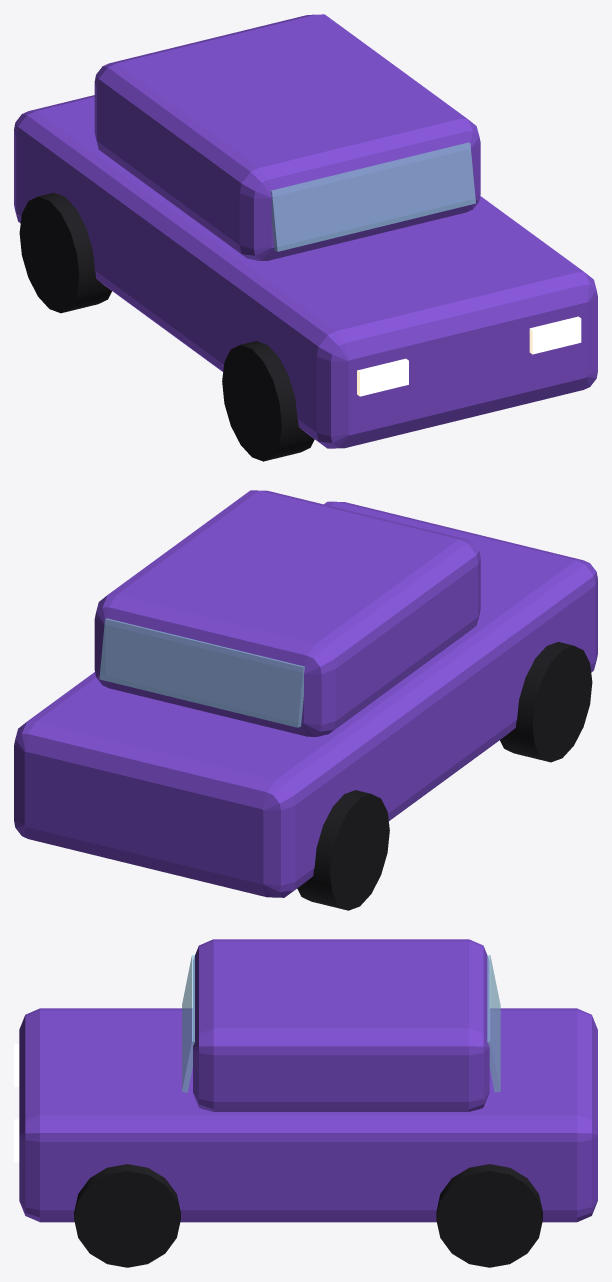
The model's file is car_purple.glb.
The picture shows the model from 3 angles, top to bottom: view 1: azimuth 30°, elevation 25°; view 2: azimuth 150°, elevation 25°; view 3: azimuth 270°, elevation 25°; orthographic projection. The views are drawn at different scales.
Visible parts, largest first — view 1: Body, Roof, Window_Front, Wheel_FL, Wheel_RL, Headlight_R, Headlight_L; view 2: Body, Roof, Window_Rear, Wheel_FL, Wheel_RL; view 3: Body, Roof, Wheel_RR, Wheel_FR, Window_Rear, Window_Front.
Boxes of the visible parts, x1,y1,x2,y2 form: Body: [14, 95, 597, 448]; Roof: [94, 14, 480, 260]; Window_Front: [270, 142, 475, 251]; Wheel_FL: [222, 341, 314, 461]; Wheel_RL: [19, 192, 111, 313]; Headlight_R: [529, 316, 581, 354]; Headlight_L: [357, 358, 408, 396]; Body: [14, 501, 597, 897]; Roof: [94, 490, 480, 736]; Window_Rear: [99, 618, 304, 727]; Wheel_FL: [500, 642, 592, 762]; Wheel_RL: [297, 790, 389, 910]; Body: [19, 1008, 597, 1222]; Roof: [193, 939, 489, 1111]; Wheel_RR: [436, 1164, 542, 1267]; Wheel_FR: [74, 1164, 180, 1267]; Window_Rear: [487, 955, 500, 1092]; Window_Front: [182, 955, 194, 1092].
Size of the model in its own units: 2.16 by 1.6 by 3.94.
